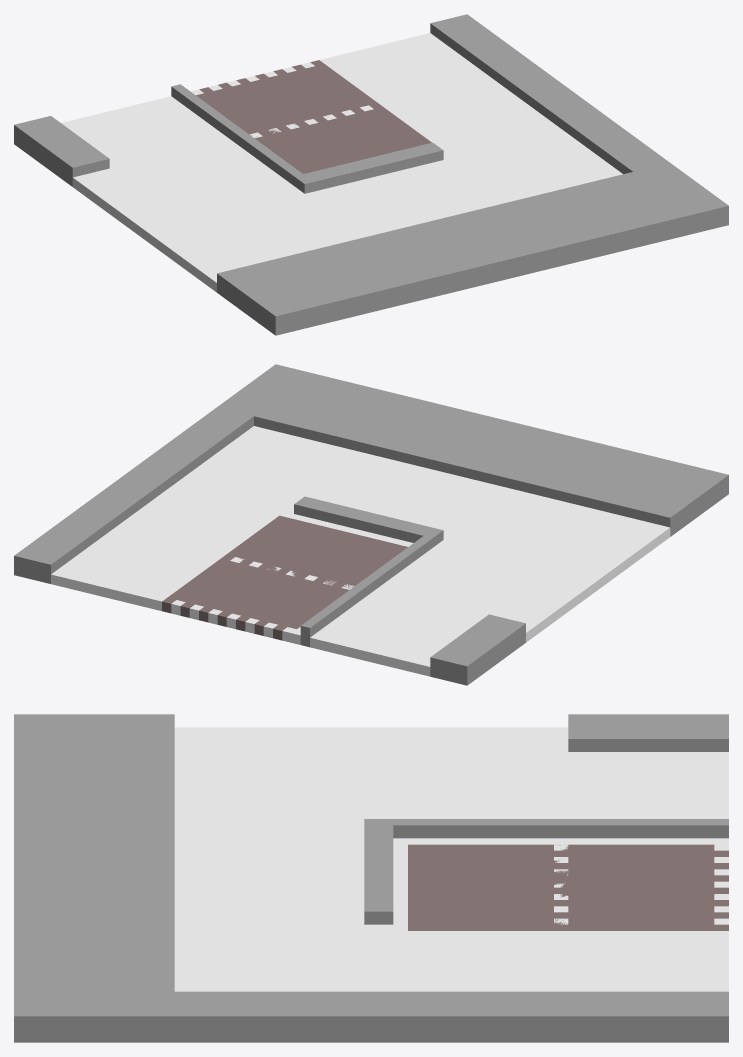
File: park1_49.gltf
3 views of the same model, one above another, from view 1: azimuth 30°, elevation 25°; view 2: azimuth 150°, elevation 25°; view 3: azimuth 270°, elevation 25° (orthographic). The views are drawn at different scales.
Visible parts, largest first — view 1: stone, tar, park, ink; view 2: tar, stone, park, ink; view 3: stone, tar, park, ink.
Boxes of the visible parts, x1=… form: stone: x1=14, y1=14, x2=728, y2=335; tar: x1=61, y1=35, x2=613, y2=288; park: x1=196, y1=60, x2=431, y2=173; ink: x1=72, y1=33, x2=622, y2=292; tar: x1=60, y1=432, x2=664, y2=674; stone: x1=14, y1=364, x2=728, y2=685; park: x1=162, y1=515, x2=407, y2=640; ink: x1=51, y1=426, x2=670, y2=676; stone: x1=14, y1=714, x2=728, y2=1042; tar: x1=189, y1=727, x2=728, y2=991; park: x1=408, y1=844, x2=728, y2=930; ink: x1=174, y1=727, x2=728, y2=991.
Size of the model in its own units: 49 by 2 by 49.
Materials: 4 (4 with a texture image).
